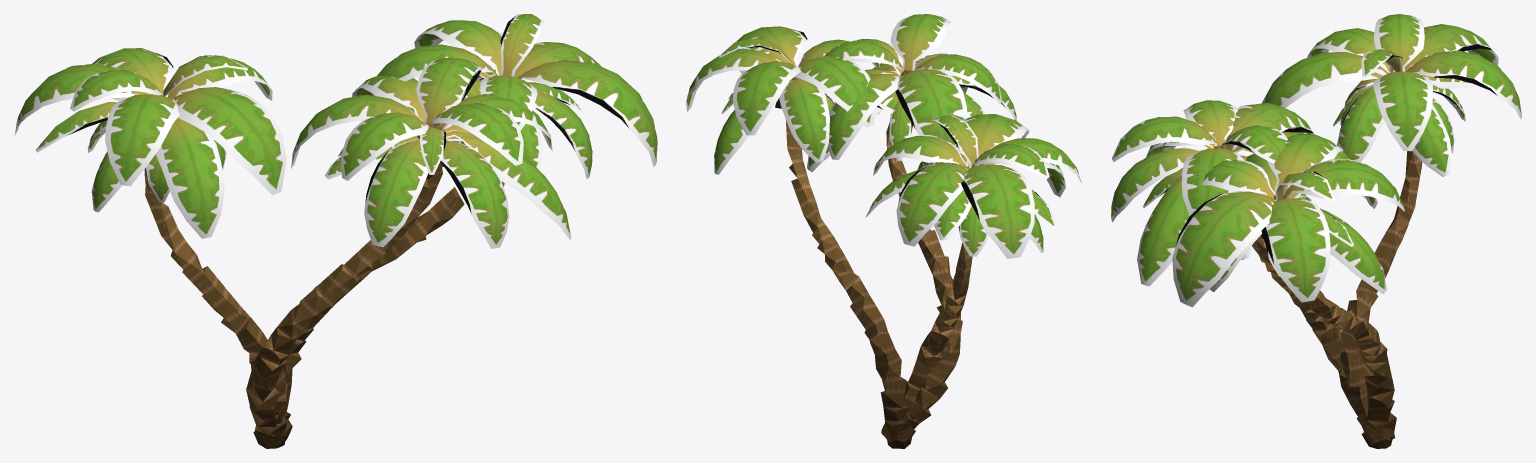
Rendered from palms.glb.
3 views of the same model, side by side, from view 1: azimuth 30°, elevation 25°; view 2: azimuth 150°, elevation 25°; view 3: azimuth 270°, elevation 25° (orthographic). The views are drawn at different scales.
Visible parts, largest first — view 1: palm0-crown, palm1-crown, palm2-crown, palm1-trunk, palm0-trunk, palm2-trunk; view 2: palm0-crown, palm2-crown, palm1-crown, palm2-trunk, palm1-trunk, palm0-trunk; view 3: palm2-crown, palm0-crown, palm1-crown, palm0-trunk, palm2-trunk, palm1-trunk.
Part boxes in pixels (x1,y1,x2,y2): palm0-crown: (14, 48, 286, 238); palm1-crown: (291, 58, 571, 248); palm2-crown: (367, 14, 657, 178); palm1-trunk: (246, 123, 446, 443); palm0-trunk: (144, 168, 288, 440); palm2-trunk: (253, 187, 464, 448); palm0-crown: (865, 114, 1082, 258); palm2-crown: (686, 26, 897, 174); palm1-crown: (807, 14, 1016, 172); palm2-trunk: (775, 77, 911, 448); palm1-trunk: (881, 70, 962, 443); palm0-trunk: (897, 167, 972, 441); palm2-crown: (1172, 133, 1404, 307); palm0-crown: (1261, 14, 1521, 176); palm1-crown: (1111, 100, 1365, 286); palm0-trunk: (1340, 151, 1422, 441); palm2-trunk: (1261, 195, 1396, 448); palm1-trunk: (1214, 145, 1395, 445).
Size of the model in its own units: 1.31 by 1 by 1.02.
Materials: 2 (2 with a texture image).
